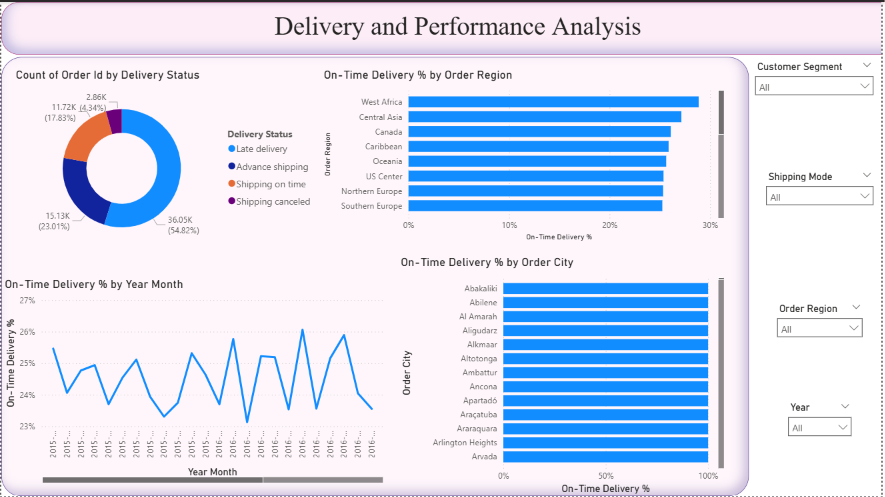

What the dashboard file says about the page in this screenshot:
{"tool":"powerbi","page":{"name":"milestone2","canvas":[1280,720],"ordinal":2},"visuals":[{"type":"textbox","box":[0,0,1330,76.7],"z":0},{"type":"slicer","fields":{"Values":["DimDate.Year"]},"box":[1136,576,112,96],"z":1000},{"type":"slicer","fields":{"Values":["DimGeography.Order Region"]},"box":[1120,432,144,80],"z":2000},{"type":"slicer","fields":{"Values":["DimShipping.Shipping Mode"]},"box":[1104,240,176,80],"z":3000},{"type":"slicer","fields":{"Values":["DimCustomer.Customer Segment"]},"box":[1088,80,192,80],"z":4000},{"type":"textbox","box":[0,80,1088,640],"z":5000},{"type":"donutChart","fields":{"Y":["Count(FactOrders.Order Id)"],"Category":["FactOrders.Delivery Status"]},"box":[16,96,448,272],"z":6000},{"type":"clusteredBarChart","fields":{"Category":["DimGeography.Order Region"],"Y":["FactOrders.On-Time Delivery %"]},"box":[464,96,592,256],"z":7000},{"type":"lineChart","fields":{"Y":["FactOrders.On-Time Delivery %"],"Category":["DimDate.Year Month"]},"box":[0,400,560,304],"z":8000},{"type":"clusteredBarChart","fields":{"Category":["DimGeography.Market","DimGeography.Order Region","DimGeography.Order Country","DimGeography.Order State","DimGeography.Order City"],"Y":["FactOrders.On-Time Delivery %"]},"box":[576,368,480,352],"z":9000}]}

Visuals, with their boxes in screenshot pixels (x1, y1, x2, y2), scaled from the page's 1280x720 canvas onto the 885x497 screenshot:
textbox: (0,0,884,53)
slicer - DimDate.Year: (785,398,863,464)
slicer - DimGeography.Order Region: (774,298,874,353)
slicer - DimShipping.Shipping Mode: (763,166,884,221)
slicer - DimCustomer.Customer Segment: (752,55,884,110)
textbox: (0,55,752,496)
donutChart - Count(FactOrders.Order Id) x FactOrders.Delivery Status: (11,66,321,254)
clusteredBarChart - DimGeography.Order Region x FactOrders.On-Time Delivery %: (321,66,730,243)
lineChart - FactOrders.On-Time Delivery % x DimDate.Year Month: (0,276,387,486)
clusteredBarChart - DimGeography.Market x DimGeography.Order Region: (398,254,730,496)
